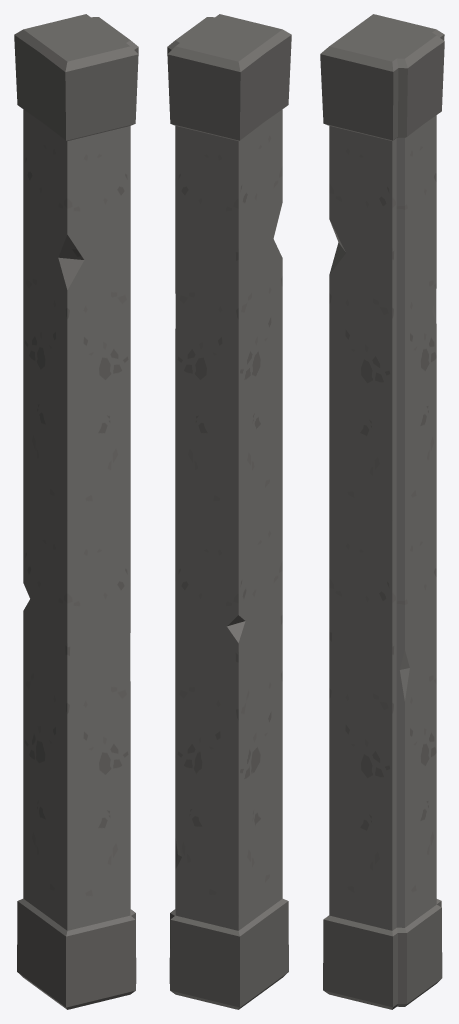
File: SM_Bld_Tunnel_Straight_Pillar_02.fbx
The picture shows the model from 3 angles, left to right: view 1: azimuth 30°, elevation 25°; view 2: azimuth 150°, elevation 25°; view 3: azimuth 330°, elevation 25°; orthographic projection.
Parts seen in each view (by area): view 1: SM_Bld_Tunnel_Straight_Pillar_02; view 2: SM_Bld_Tunnel_Straight_Pillar_02; view 3: SM_Bld_Tunnel_Straight_Pillar_02.
Boxes of the visible parts, x1,y1,x2,y2 form: SM_Bld_Tunnel_Straight_Pillar_02: [14, 14, 138, 1009]; SM_Bld_Tunnel_Straight_Pillar_02: [167, 14, 291, 1009]; SM_Bld_Tunnel_Straight_Pillar_02: [320, 14, 444, 1009].
Size of the model in its own units: 53.37 by 600 by 58.76.
